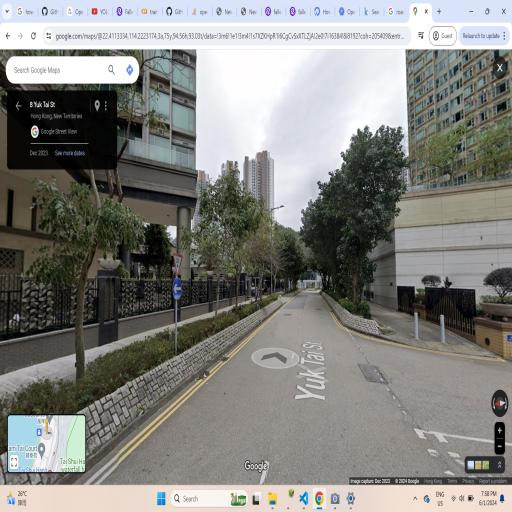Roads: (110, 285, 503, 458)
Trees: (39, 185, 128, 389), (311, 134, 393, 317), (204, 187, 246, 305), (239, 208, 292, 294)
